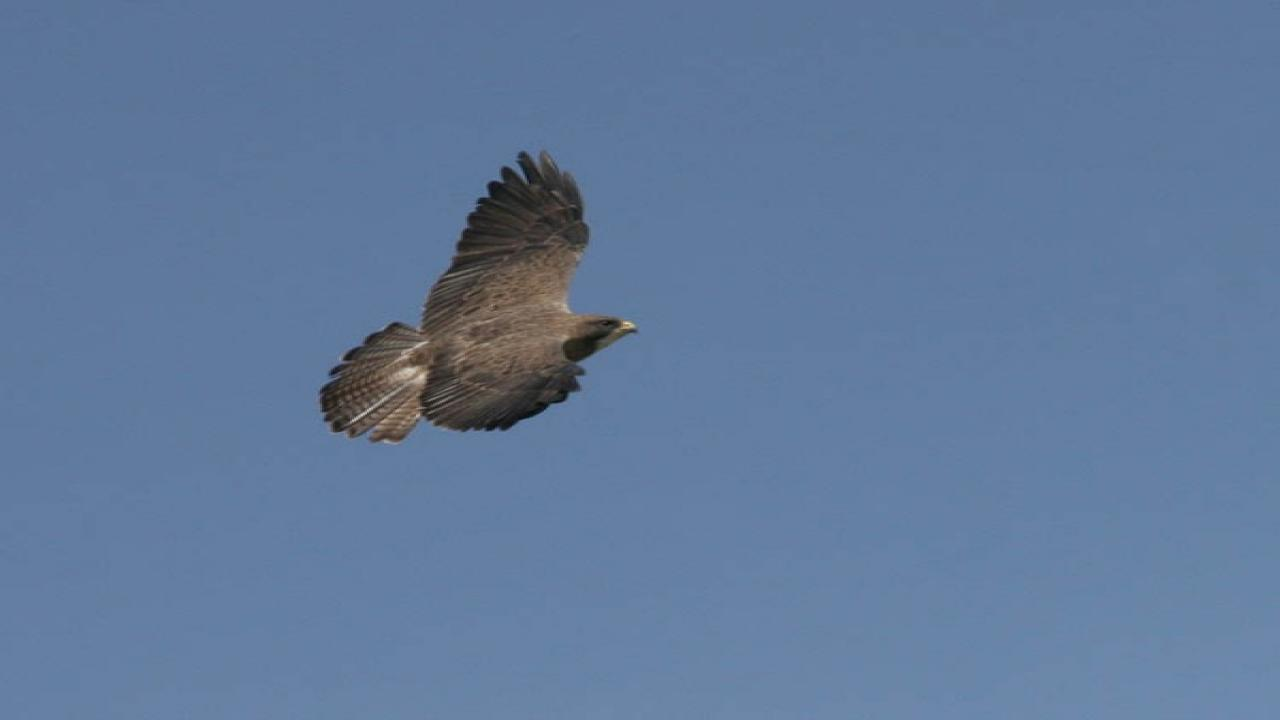Bird: (306, 146, 652, 456)
